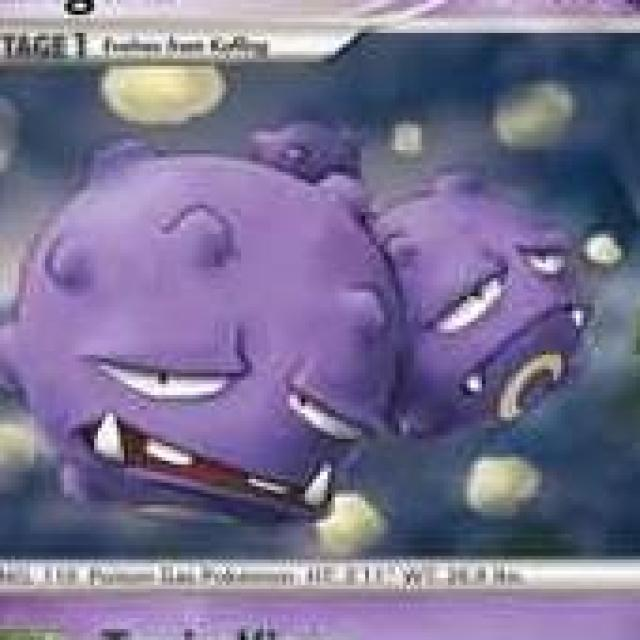Weezing: (0, 126, 588, 531)
